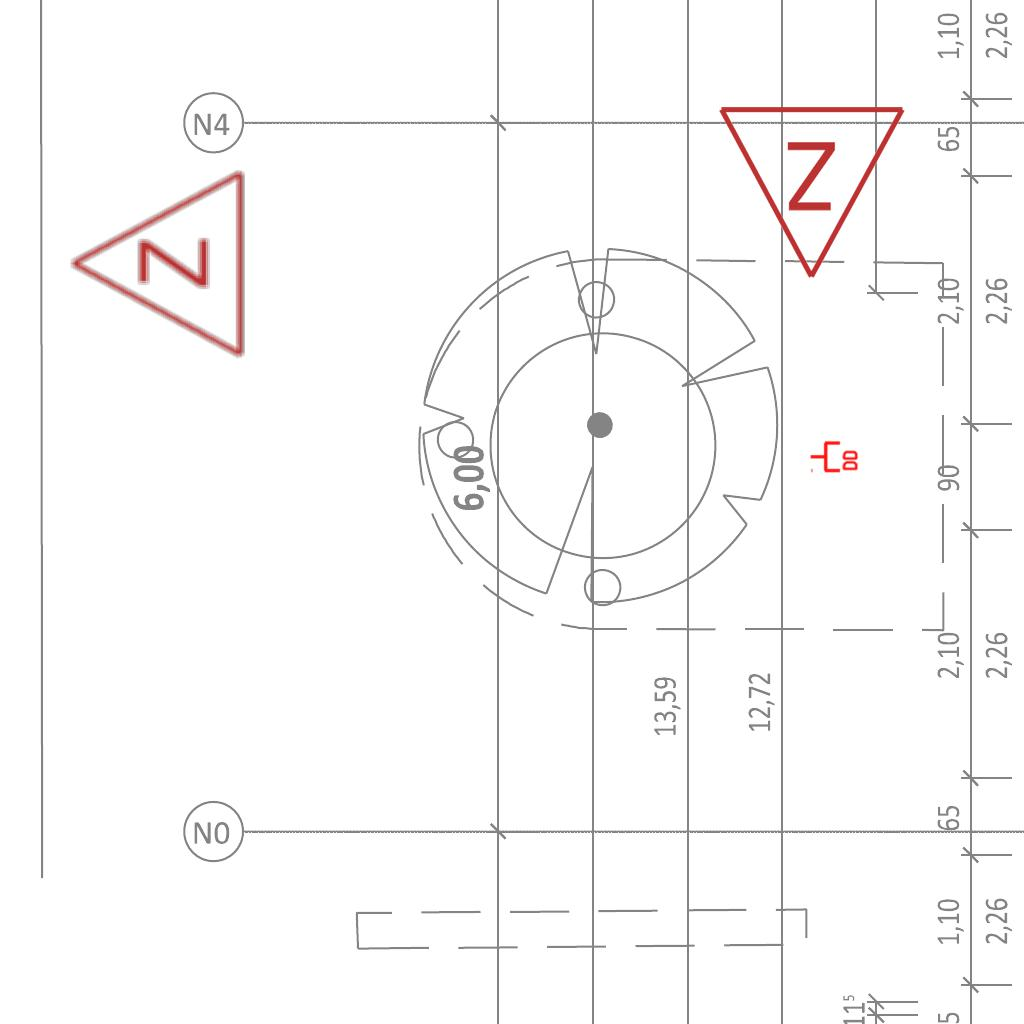Datenanschluss_zweifach: (809, 439, 860, 473)
Zimmersignalleuchte: (58, 168, 258, 364), (716, 92, 912, 292)
